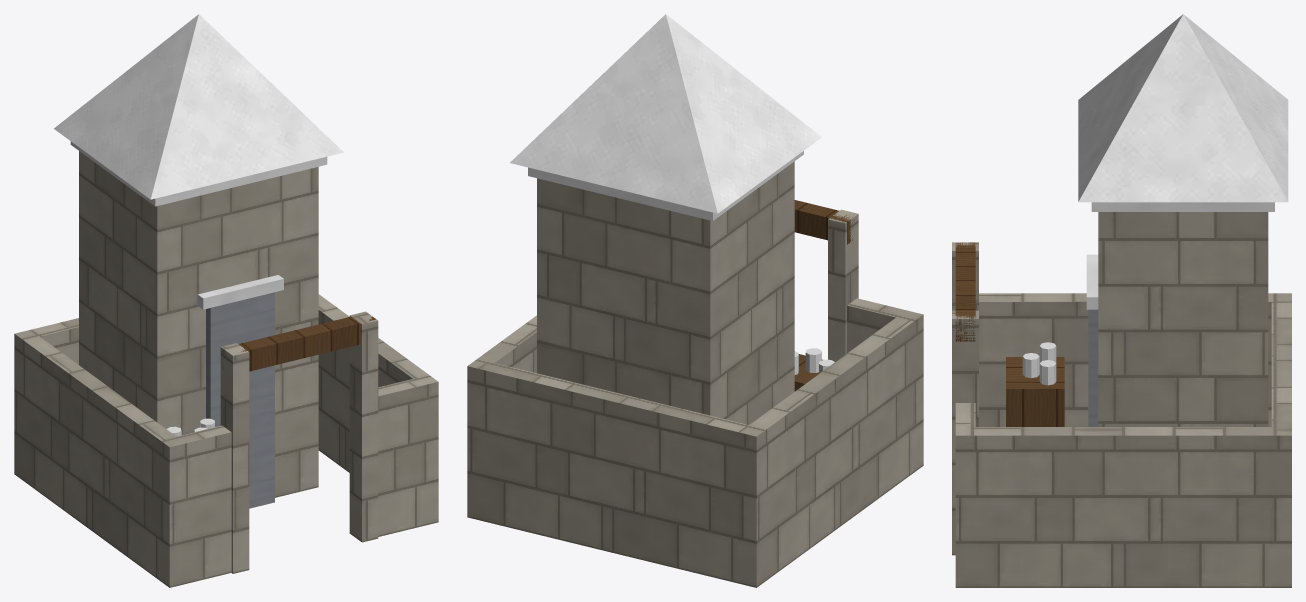
Rendered from protocol.compound.glb.
3 views of the same model, side by side, from view 1: azimuth 30°, elevation 25°; view 2: azimuth 150°, elevation 25°; view 3: azimuth 270°, elevation 25° (orthographic). The views are drawn at different scales.
Parts seen in each view (by area): view 1: building.protocol.compound; view 2: building.protocol.compound; view 3: building.protocol.compound.
Part boxes in pixels (x1,y1,x2,y2): building.protocol.compound: [14, 14, 438, 587]; building.protocol.compound: [467, 14, 923, 587]; building.protocol.compound: [952, 14, 1291, 587].
Size of the model in its own units: 2 by 3.3 by 2.02.
5 materials, 5 textured.
